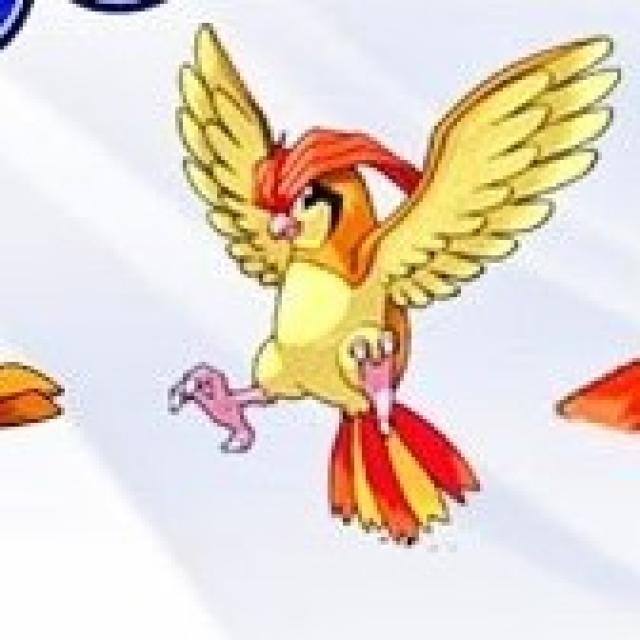Pidgeotto: (170, 108, 499, 478)
